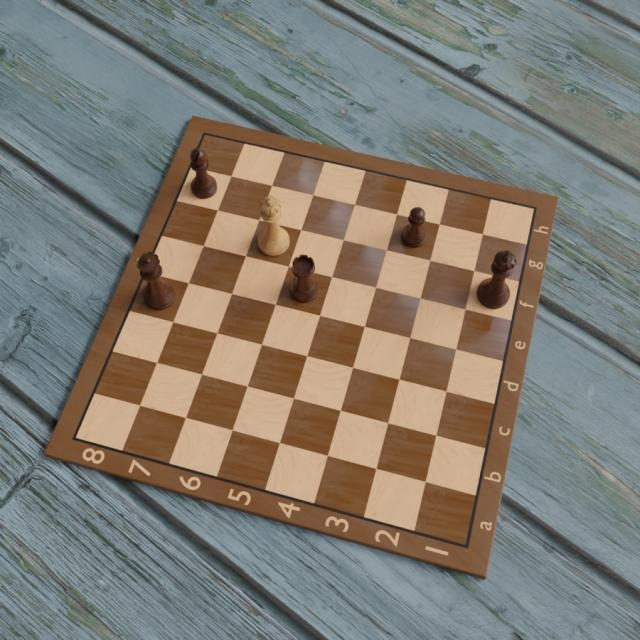black-bishop: (189, 147, 217, 201)
black-king: (476, 249, 518, 310)
black-pawn: (400, 205, 428, 249)
black-queen: (134, 250, 177, 311)
black-rook: (288, 253, 320, 305)
white-king: (258, 196, 289, 260)
